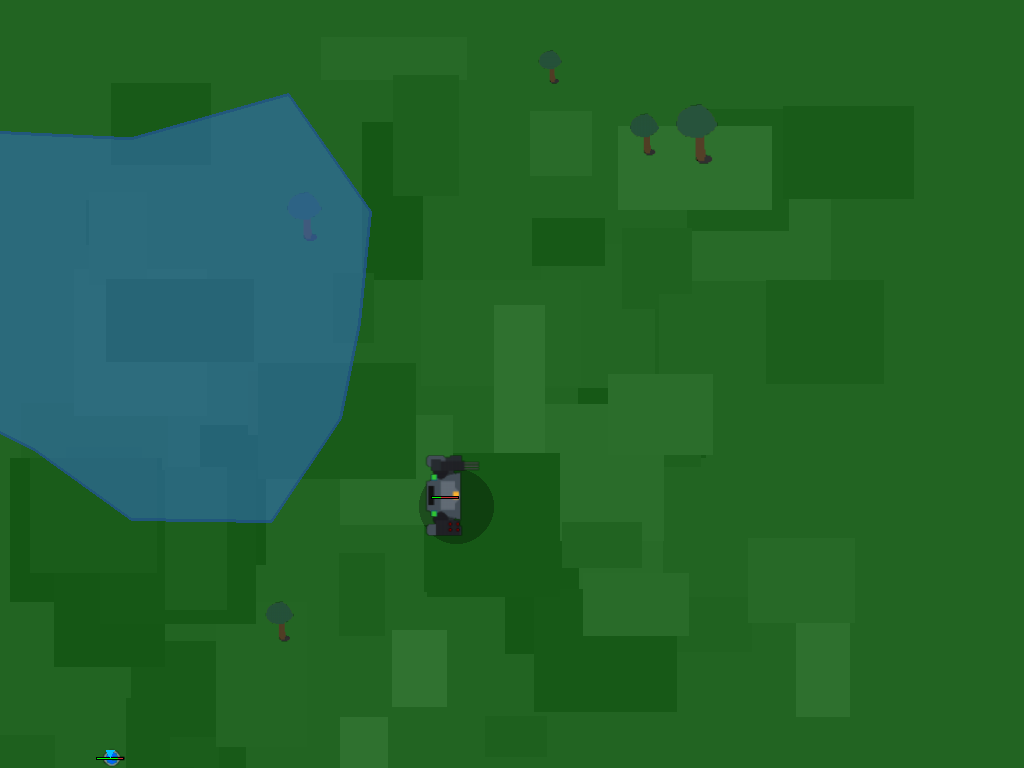HeavyMech: (416, 466, 473, 523)
Lake: (0, 94, 370, 521)
Rifleman: (93, 739, 127, 768)
